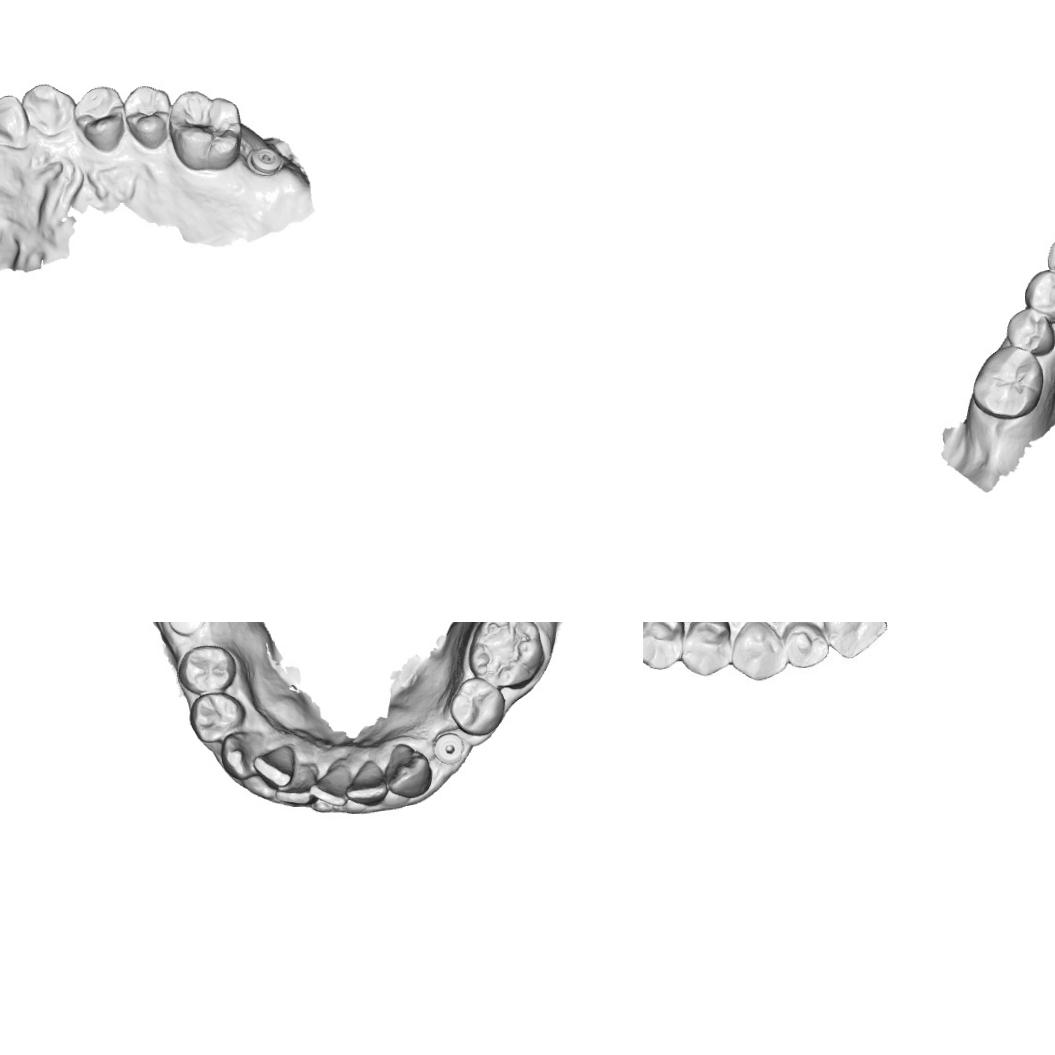canine: (727, 622, 790, 684), (18, 82, 76, 138), (385, 740, 432, 798), (218, 727, 260, 783)
implant: (243, 146, 284, 176), (432, 732, 465, 764), (163, 622, 209, 638)
incisor: (819, 622, 891, 660), (781, 622, 832, 671), (348, 758, 395, 808), (310, 760, 356, 809), (274, 762, 314, 808), (0, 91, 30, 152), (254, 742, 292, 790)
molar: (166, 87, 246, 174), (970, 343, 1046, 422), (467, 622, 547, 691)
premolar: (72, 83, 128, 156), (122, 81, 175, 152), (447, 676, 507, 737), (178, 644, 238, 696), (189, 690, 247, 743), (681, 622, 735, 678), (1004, 305, 1055, 357), (643, 622, 685, 671), (1021, 268, 1055, 325)
